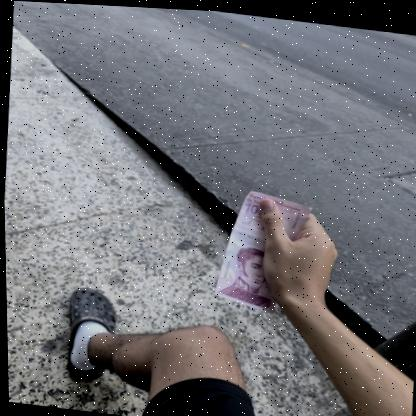vef_front: (210, 183, 315, 315)
